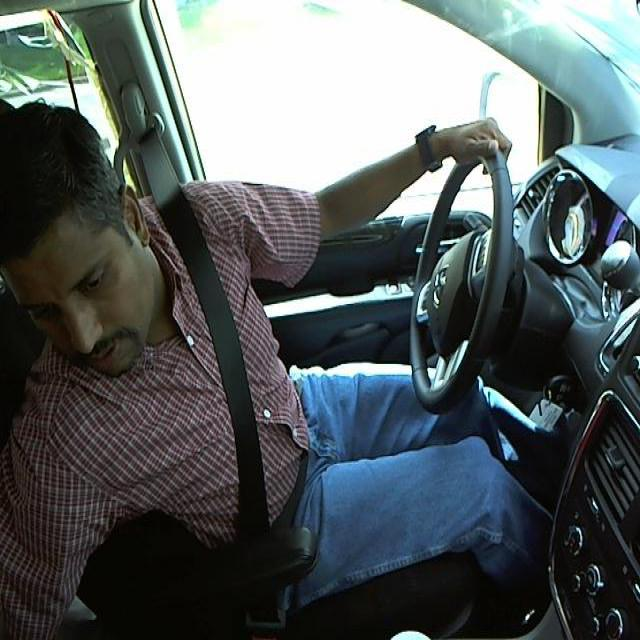seatbelt: (160, 242, 294, 550)
